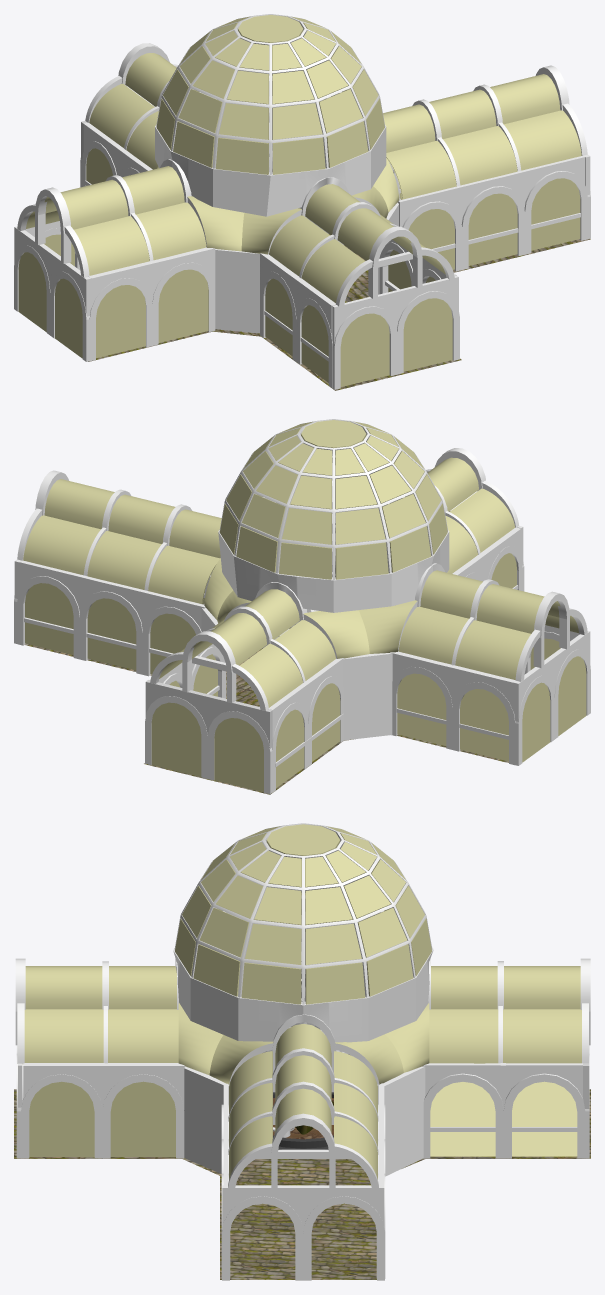
File: greenhouseall.fbx
The picture shows the model from 3 angles, top to bottom: view 1: azimuth 30°, elevation 25°; view 2: azimuth 150°, elevation 25°; view 3: azimuth 270°, elevation 25°; orthographic projection. The views are drawn at different scales.
Parts seen in each view (by area): view 1: pCylinder3, pCube23, pCube13.002, pCube15, Cube.004, pCube13.004, Cube.010, pPlane1, pCube13.003; view 2: pCylinder3, pCube23, pCube15, Cube.004, pCube13.002, pCube13, pCube21, Cube.012, pCube13.003, pPlane1; view 3: pCylinder3, pCube13.002, Cube.004, pCube15, pPlane1, Cube.008, Cube.011, pCylinder1.
Part boxes in pixels (x1,y1,x2,y2): pCylinder3: [155, 14, 399, 254]; pCube23: [14, 166, 215, 361]; pCube13.002: [260, 184, 459, 389]; pCube15: [383, 65, 590, 271]; Cube.004: [80, 43, 178, 187]; pCube13.004: [408, 178, 580, 269]; Cube.010: [215, 249, 259, 333]; pPlane1: [88, 234, 590, 390]; pCube13.003: [86, 148, 130, 185]; pCylinder3: [204, 419, 449, 658]; pCube23: [390, 570, 590, 765]; pCube15: [14, 470, 221, 676]; Cube.004: [145, 589, 343, 794]; pCube13.002: [426, 448, 524, 591]; pCube13: [25, 583, 195, 674]; pCube21: [151, 702, 263, 792]; Cube.012: [343, 653, 392, 740]; pCube13.003: [276, 683, 340, 787]; pPlane1: [25, 643, 508, 794]; pCylinder3: [173, 823, 433, 1084]; pCube13.002: [15, 958, 184, 1158]; Cube.004: [422, 958, 590, 1158]; pCube15: [221, 1024, 385, 1280]; pPlane1: [14, 1089, 590, 1279]; Cube.008: [378, 1066, 425, 1176]; Cube.011: [184, 1066, 229, 1173]; pCylinder1: [273, 1092, 333, 1149].
Size of the model in its own units: 1615 by 777 by 1415.
Materials: 10 (4 with a texture image).
